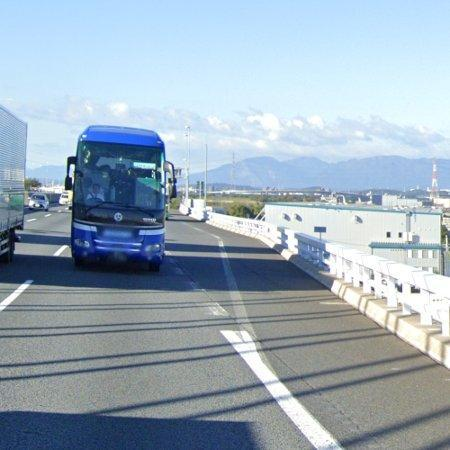buses: (65, 127, 176, 271)
